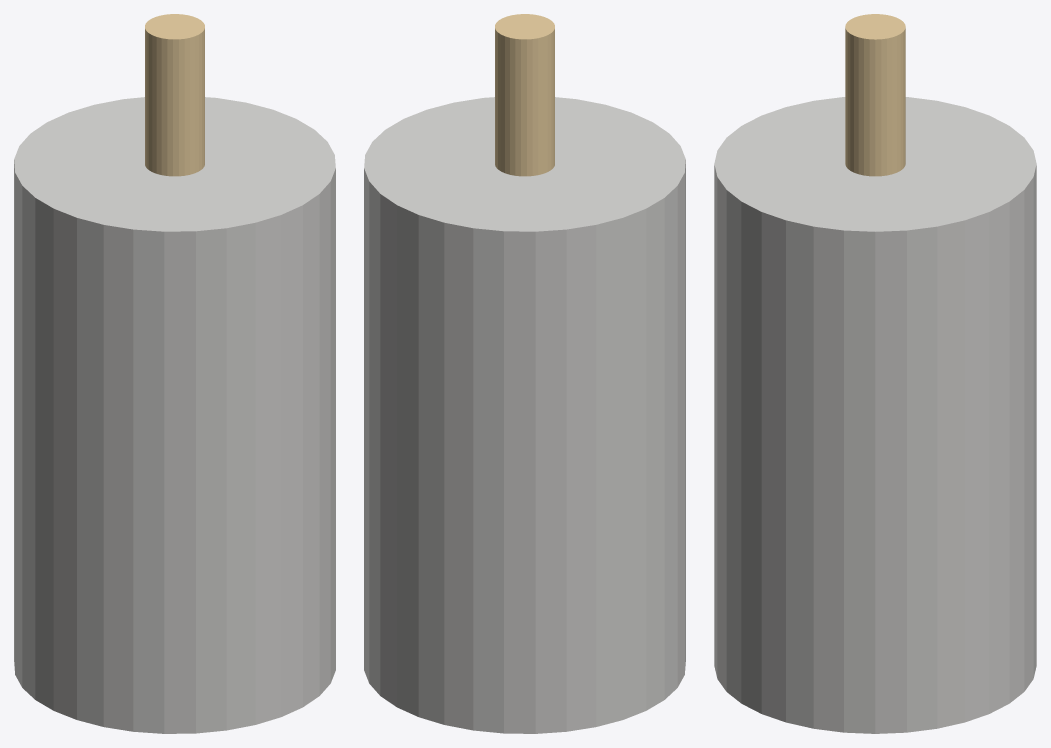
File: arch_soap.glb
3 views of the same model, side by side, from view 1: azimuth 30°, elevation 25°; view 2: azimuth 150°, elevation 25°; view 3: azimuth 270°, elevation 25° (orthographic).
Parts seen in each view (by area): view 1: Soap_Dispenser, Soap_Pump; view 2: Soap_Dispenser, Soap_Pump; view 3: Soap_Dispenser, Soap_Pump.
Part boxes in pixels (x1,y1,x2,y2): Soap_Dispenser: (14,97,335,733); Soap_Pump: (145,14,204,176); Soap_Dispenser: (364,97,685,733); Soap_Pump: (495,14,554,176); Soap_Dispenser: (714,97,1036,733); Soap_Pump: (845,14,905,176).
Size of the model in its own units: 0.064 by 0.14 by 0.064.
